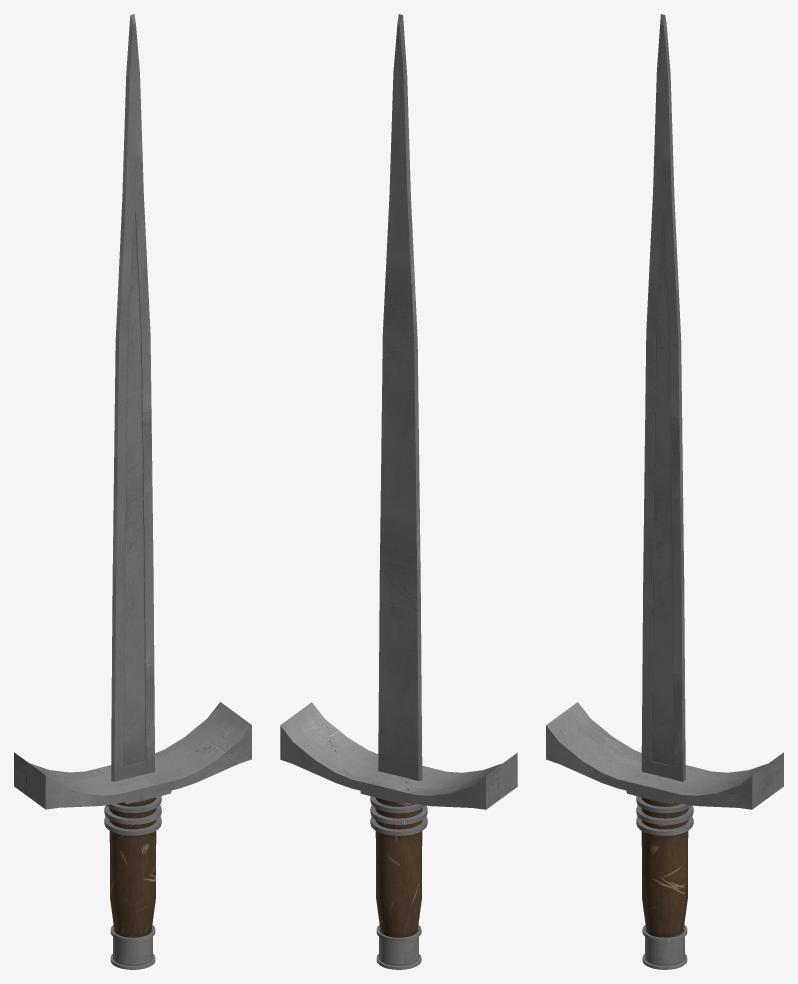
Rendered from Sword_01.fbx.
The picture shows the model from 3 angles, left to right: view 1: azimuth 30°, elevation 25°; view 2: azimuth 150°, elevation 25°; view 3: azimuth 330°, elevation 25°; orthographic projection.
Parts seen in each view (by area): view 1: Sword_01; view 2: Sword_01; view 3: Sword_01.
Boxes of the visible parts, bbox=[...] form: Sword_01: bbox=[14, 14, 251, 969]; Sword_01: bbox=[280, 14, 517, 969]; Sword_01: bbox=[546, 14, 783, 969].
Size of the model in its own units: 9.83 by 43.12 by 2.62.
Materials: 4 (4 with a texture image).
